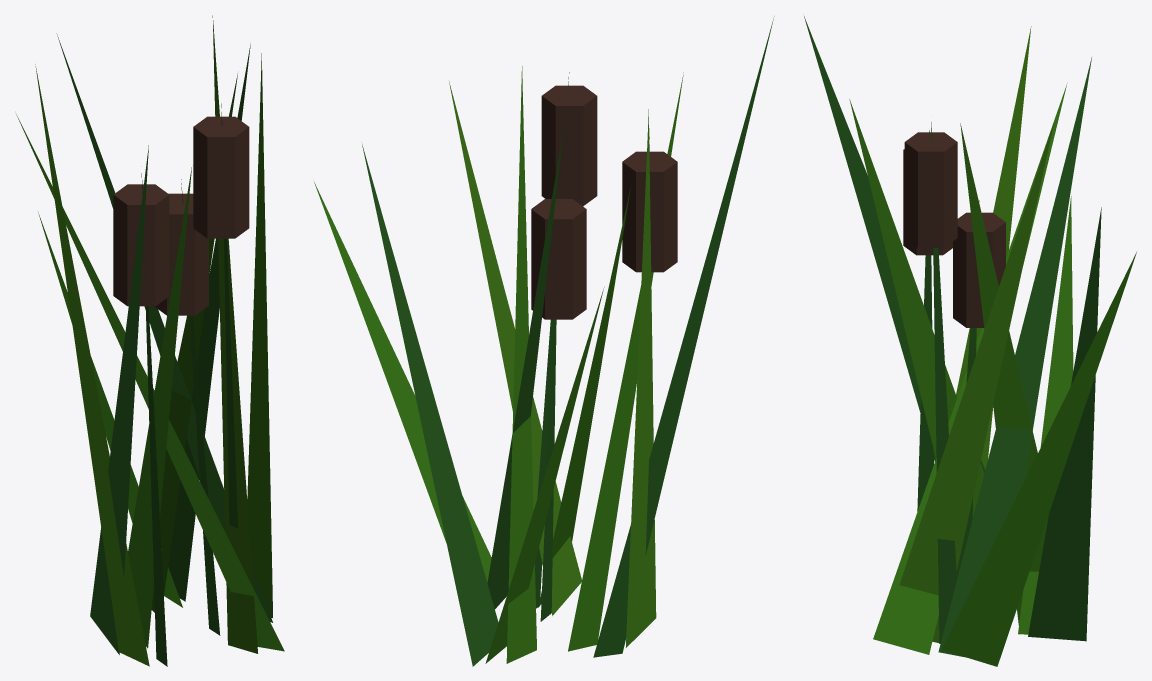
File: reeds_b.gltf
3 renders of one model, left to right at view 1: azimuth 30°, elevation 25°; view 2: azimuth 150°, elevation 25°; view 3: azimuth 270°, elevation 25°, orthographic. The views are drawn at different scales.
Visible parts, largest first — view 1: reeds_b; view 2: reeds_b; view 3: reeds_b.
Part boxes in pixels (x1,y1,x2,y2): reeds_b: (16, 15, 284, 666); reeds_b: (314, 16, 774, 666); reeds_b: (804, 16, 1136, 666).
Size of the model in its own units: 0.5376 by 1.05 by 0.5688.
